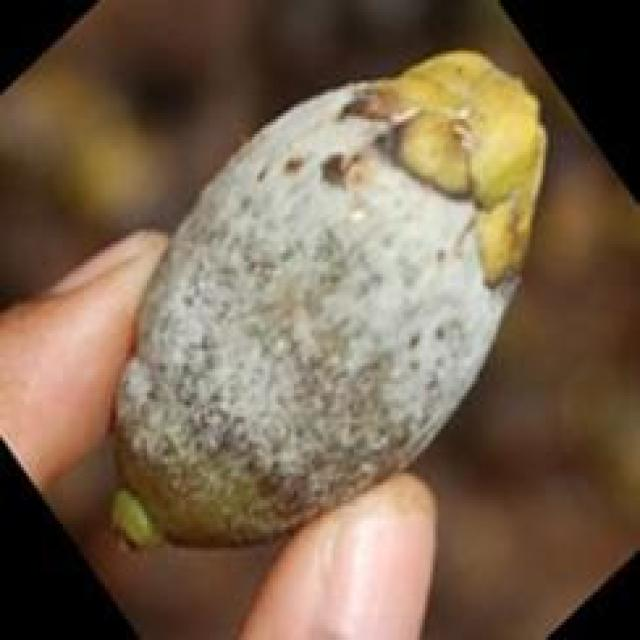damaged: (102, 51, 551, 554)
